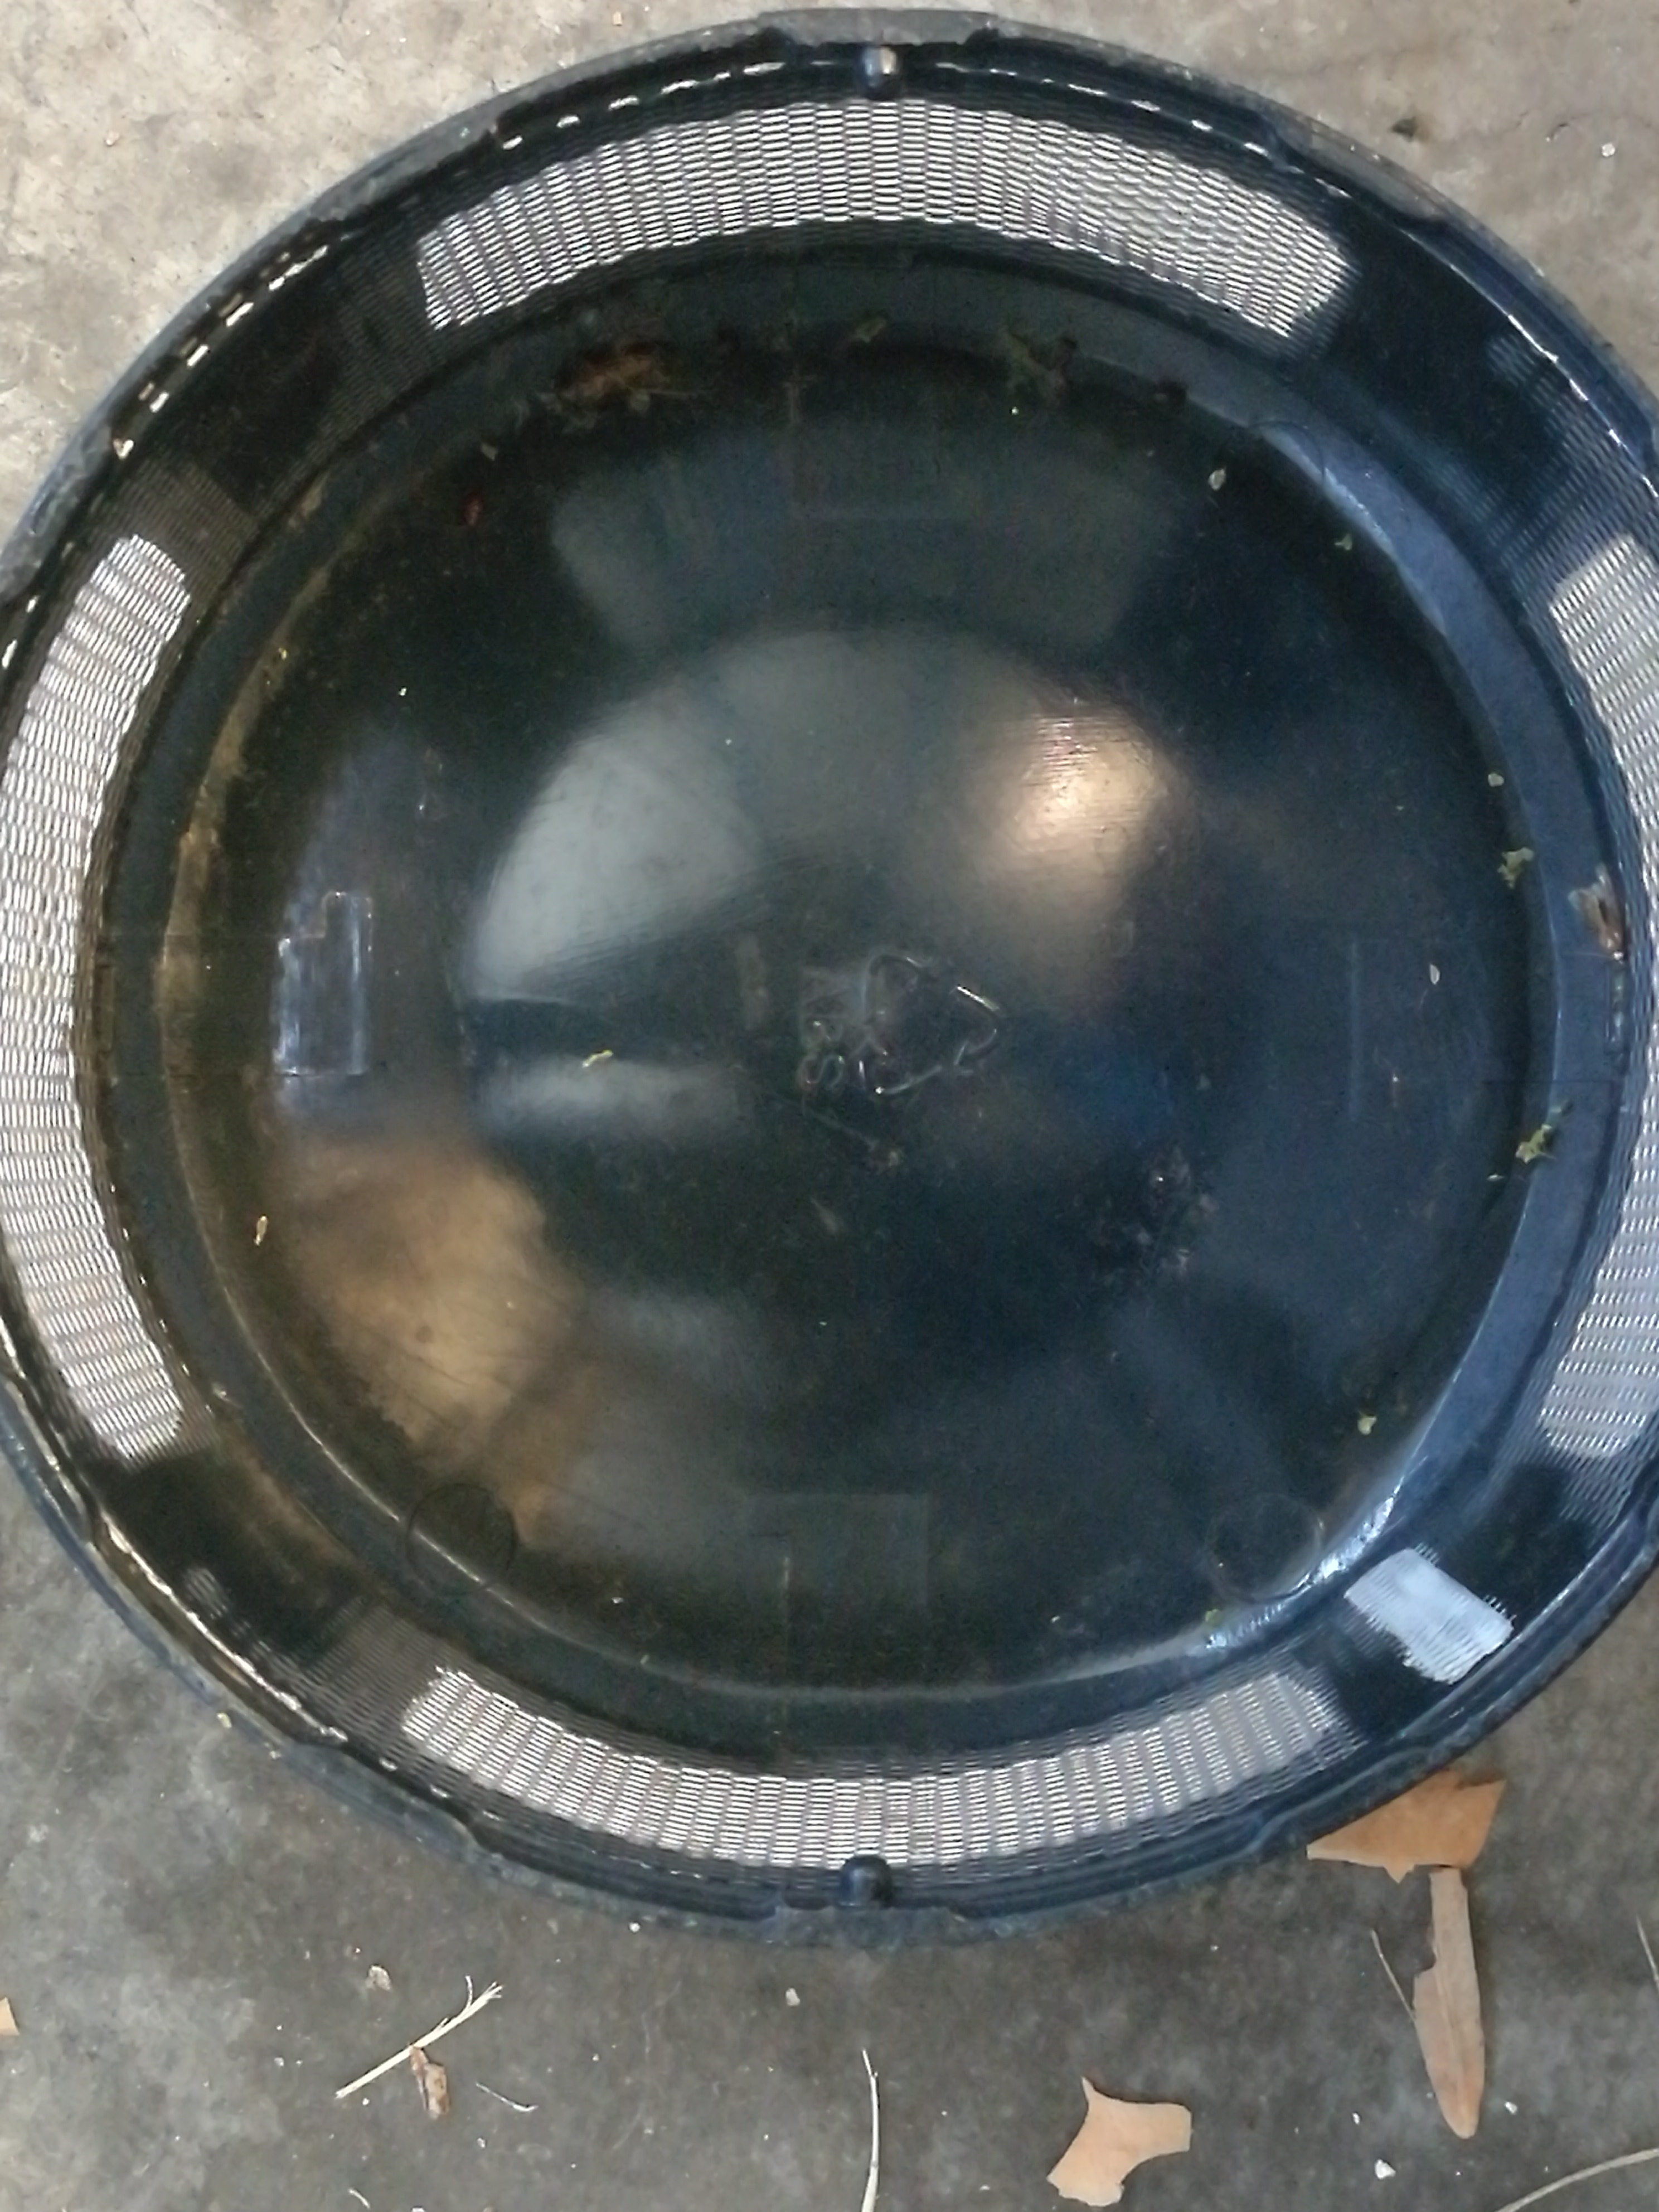beetle: (537, 350, 657, 404)
moth: (1577, 866, 1626, 965)
